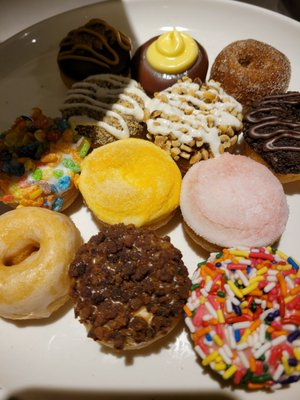salad: (182, 247, 300, 394), (68, 224, 192, 352), (179, 154, 288, 253), (78, 137, 182, 232), (0, 206, 82, 321), (208, 39, 291, 107), (241, 92, 300, 182)
